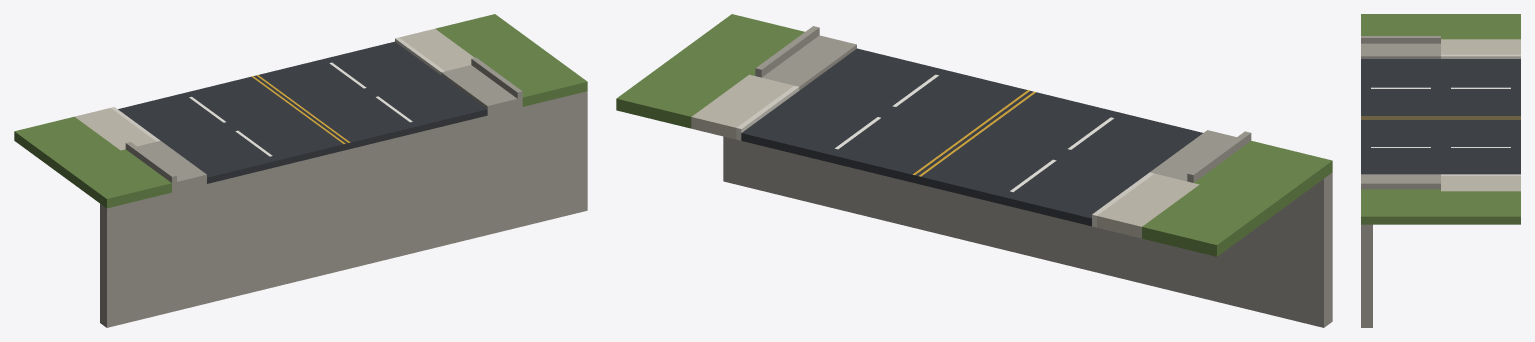
File: Bridge_Approach_4Lane_Sidewalk_8m.glb
3 views of the same model, side by side, from view 1: azimuth 30°, elevation 25°; view 2: azimuth 150°, elevation 25°; view 3: azimuth 270°, elevation 25° (orthographic). The views are drawn at different scales.
Visible parts, largest first — view 1: Bridge_Approach_4Lane_Sidewalk_8m_Concrete, Bridge_Approach_4Lane_Sidewalk_8m_Asphalt, Bridge_Approach_4Lane_Sidewalk_8m_Grass-edge, Bridge_Approach_4Lane_Sidewalk_8m_Sidewalk, Bridge_Approach_4Lane_Sidewalk_8m_Curb, Bridge_Approach_4Lane_Sidewalk_8m_PaintWhite, Bridge_Approach_4Lane_Sidewalk_8m_PaintYellow; view 2: Bridge_Approach_4Lane_Sidewalk_8m_Asphalt, Bridge_Approach_4Lane_Sidewalk_8m_Concrete, Bridge_Approach_4Lane_Sidewalk_8m_Grass-edge, Bridge_Approach_4Lane_Sidewalk_8m_Sidewalk, Bridge_Approach_4Lane_Sidewalk_8m_Curb, Bridge_Approach_4Lane_Sidewalk_8m_PaintWhite, Bridge_Approach_4Lane_Sidewalk_8m_PaintYellow; view 3: Bridge_Approach_4Lane_Sidewalk_8m_Asphalt, Bridge_Approach_4Lane_Sidewalk_8m_Grass-edge, Bridge_Approach_4Lane_Sidewalk_8m_Concrete, Bridge_Approach_4Lane_Sidewalk_8m_Sidewalk, Bridge_Approach_4Lane_Sidewalk_8m_PaintYellow, Bridge_Approach_4Lane_Sidewalk_8m_Curb, Bridge_Approach_4Lane_Sidewalk_8m_PaintWhite.
Part boxes in pixels (x1,y1,x2,y2): Bridge_Approach_4Lane_Sidewalk_8m_Concrete: (100, 57, 587, 327); Bridge_Approach_4Lane_Sidewalk_8m_Asphalt: (118, 41, 487, 183); Bridge_Approach_4Lane_Sidewalk_8m_Grass-edge: (14, 14, 587, 208); Bridge_Approach_4Lane_Sidewalk_8m_Sidewalk: (75, 28, 474, 150); Bridge_Approach_4Lane_Sidewalk_8m_Curb: (111, 37, 444, 141); Bridge_Approach_4Lane_Sidewalk_8m_PaintWhite: (189, 62, 412, 156); Bridge_Approach_4Lane_Sidewalk_8m_PaintYellow: (251, 75, 350, 143); Bridge_Approach_4Lane_Sidewalk_8m_Asphalt: (741, 48, 1202, 226); Bridge_Approach_4Lane_Sidewalk_8m_Concrete: (723, 26, 1332, 327); Bridge_Approach_4Lane_Sidewalk_8m_Grass-edge: (616, 14, 1332, 256); Bridge_Approach_4Lane_Sidewalk_8m_Sidewalk: (691, 74, 1199, 238); Bridge_Approach_4Lane_Sidewalk_8m_Curb: (736, 85, 1154, 227); Bridge_Approach_4Lane_Sidewalk_8m_PaintWhite: (835, 74, 1113, 192); Bridge_Approach_4Lane_Sidewalk_8m_PaintYellow: (913, 90, 1035, 176); Bridge_Approach_4Lane_Sidewalk_8m_Asphalt: (1361, 59, 1520, 174); Bridge_Approach_4Lane_Sidewalk_8m_Grass-edge: (1361, 14, 1520, 224); Bridge_Approach_4Lane_Sidewalk_8m_Concrete: (1361, 36, 1440, 327); Bridge_Approach_4Lane_Sidewalk_8m_Sidewalk: (1441, 39, 1520, 191); Bridge_Approach_4Lane_Sidewalk_8m_PaintYellow: (1361, 116, 1520, 119); Bridge_Approach_4Lane_Sidewalk_8m_Curb: (1441, 54, 1520, 175); Bridge_Approach_4Lane_Sidewalk_8m_PaintWhite: (1371, 87, 1510, 147).
Bounding box in the file's own units: 24 × 6.45 × 8.
